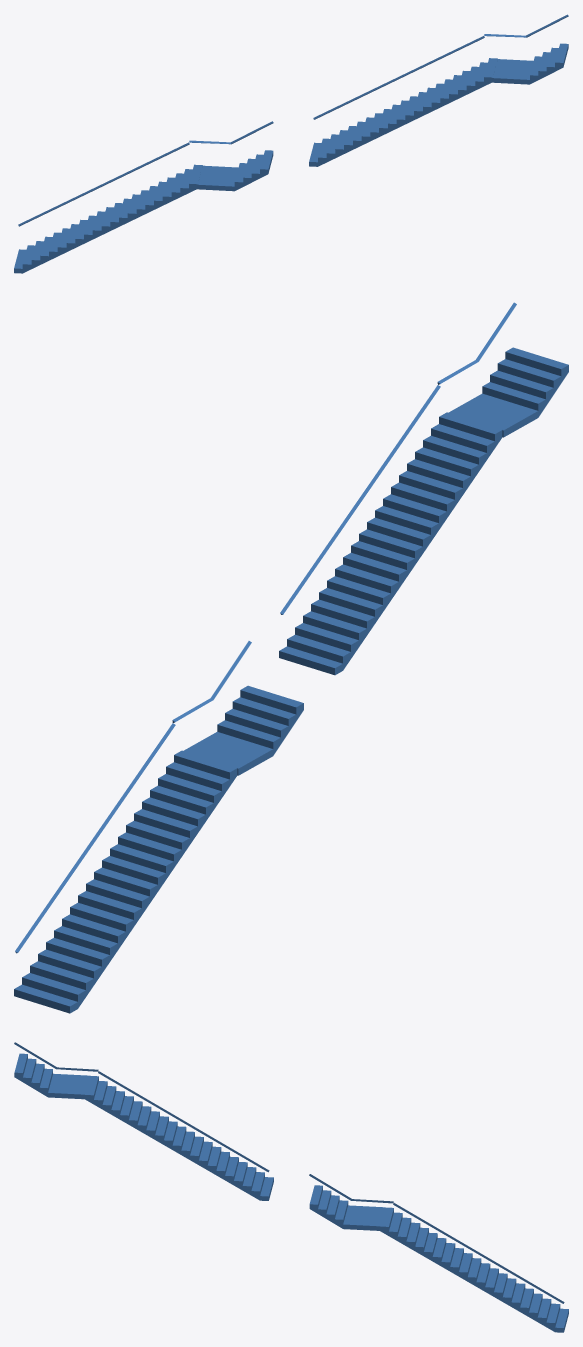
Rendered from ISELF_stairs.obj.
3 renders of one model, top to bottom at view 1: azimuth 90°, elevation 25°; view 2: azimuth 150°, elevation 25°; view 3: azimuth 270°, elevation 25°, orthographic. The views are drawn at different scales.
Visible parts, largest first — view 1: StraightStair001, StraightStair004, StraightStair003, StraightStair002; view 2: StraightStair004, StraightStair001, StraightStair003, StraightStair002; view 3: StraightStair001, StraightStair004, StraightStair002, StraightStair003.
Boxes of the visible parts, left/top/right/bottom form: StraightStair001: left=14, top=142, right=202, bottom=273; StraightStair004: left=309, top=36, right=497, bottom=166; StraightStair003: left=484, top=14, right=568, bottom=84; StraightStair002: left=189, top=121, right=273, bottom=191; StraightStair004: left=279, top=385, right=502, bottom=675; StraightStair001: left=14, top=723, right=237, bottom=1013; StraightStair003: left=437, top=302, right=568, bottom=437; StraightStair002: left=172, top=641, right=303, bottom=775; StraightStair001: left=380, top=1203, right=568, bottom=1332; StraightStair004: left=85, top=1071, right=273, bottom=1200; StraightStair002: left=309, top=1174, right=393, bottom=1230; StraightStair003: left=14, top=1042, right=98, bottom=1099.
Size of the model in its own units: 163 by 456 by 866.
